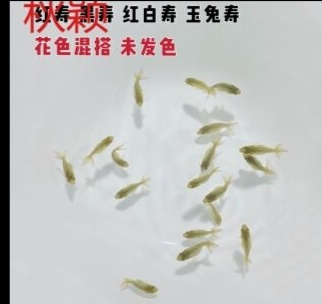fry: (167, 237, 217, 265), (117, 270, 163, 300), (109, 175, 152, 205), (49, 152, 81, 191), (127, 68, 151, 114), (237, 217, 258, 268), (238, 139, 289, 159), (190, 138, 219, 172), (177, 71, 214, 97), (213, 77, 246, 106), (191, 118, 239, 136), (81, 129, 114, 155), (239, 151, 272, 176), (173, 224, 220, 241), (205, 202, 230, 233), (202, 182, 230, 206), (182, 170, 215, 190), (110, 144, 129, 170)
